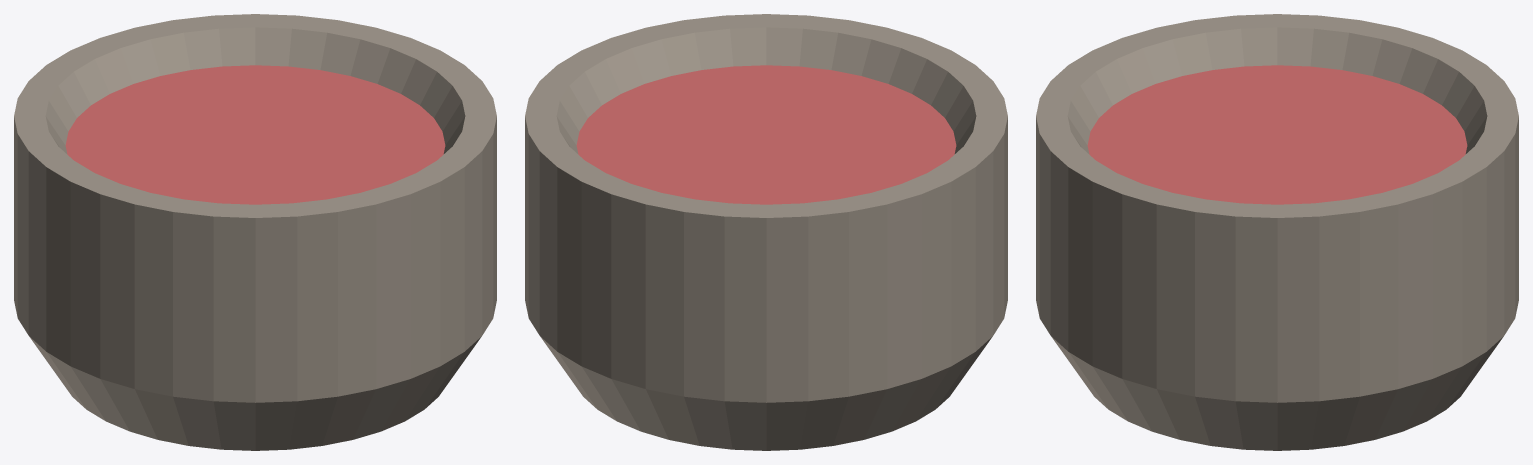
The model's file is Worker.fbx.
The picture shows the model from 3 angles, left to right: view 1: azimuth 30°, elevation 25°; view 2: azimuth 150°, elevation 25°; view 3: azimuth 270°, elevation 25°; orthographic projection.
Parts seen in each view (by area): view 1: Worker; view 2: Worker; view 3: Worker.
Boxes of the visible parts, x1,y1,x2,y2 form: Worker: (14,14,496,450); Worker: (525,14,1007,450); Worker: (1036,14,1518,450).
Size of the model in its own units: 10.4 by 6 by 10.4.
